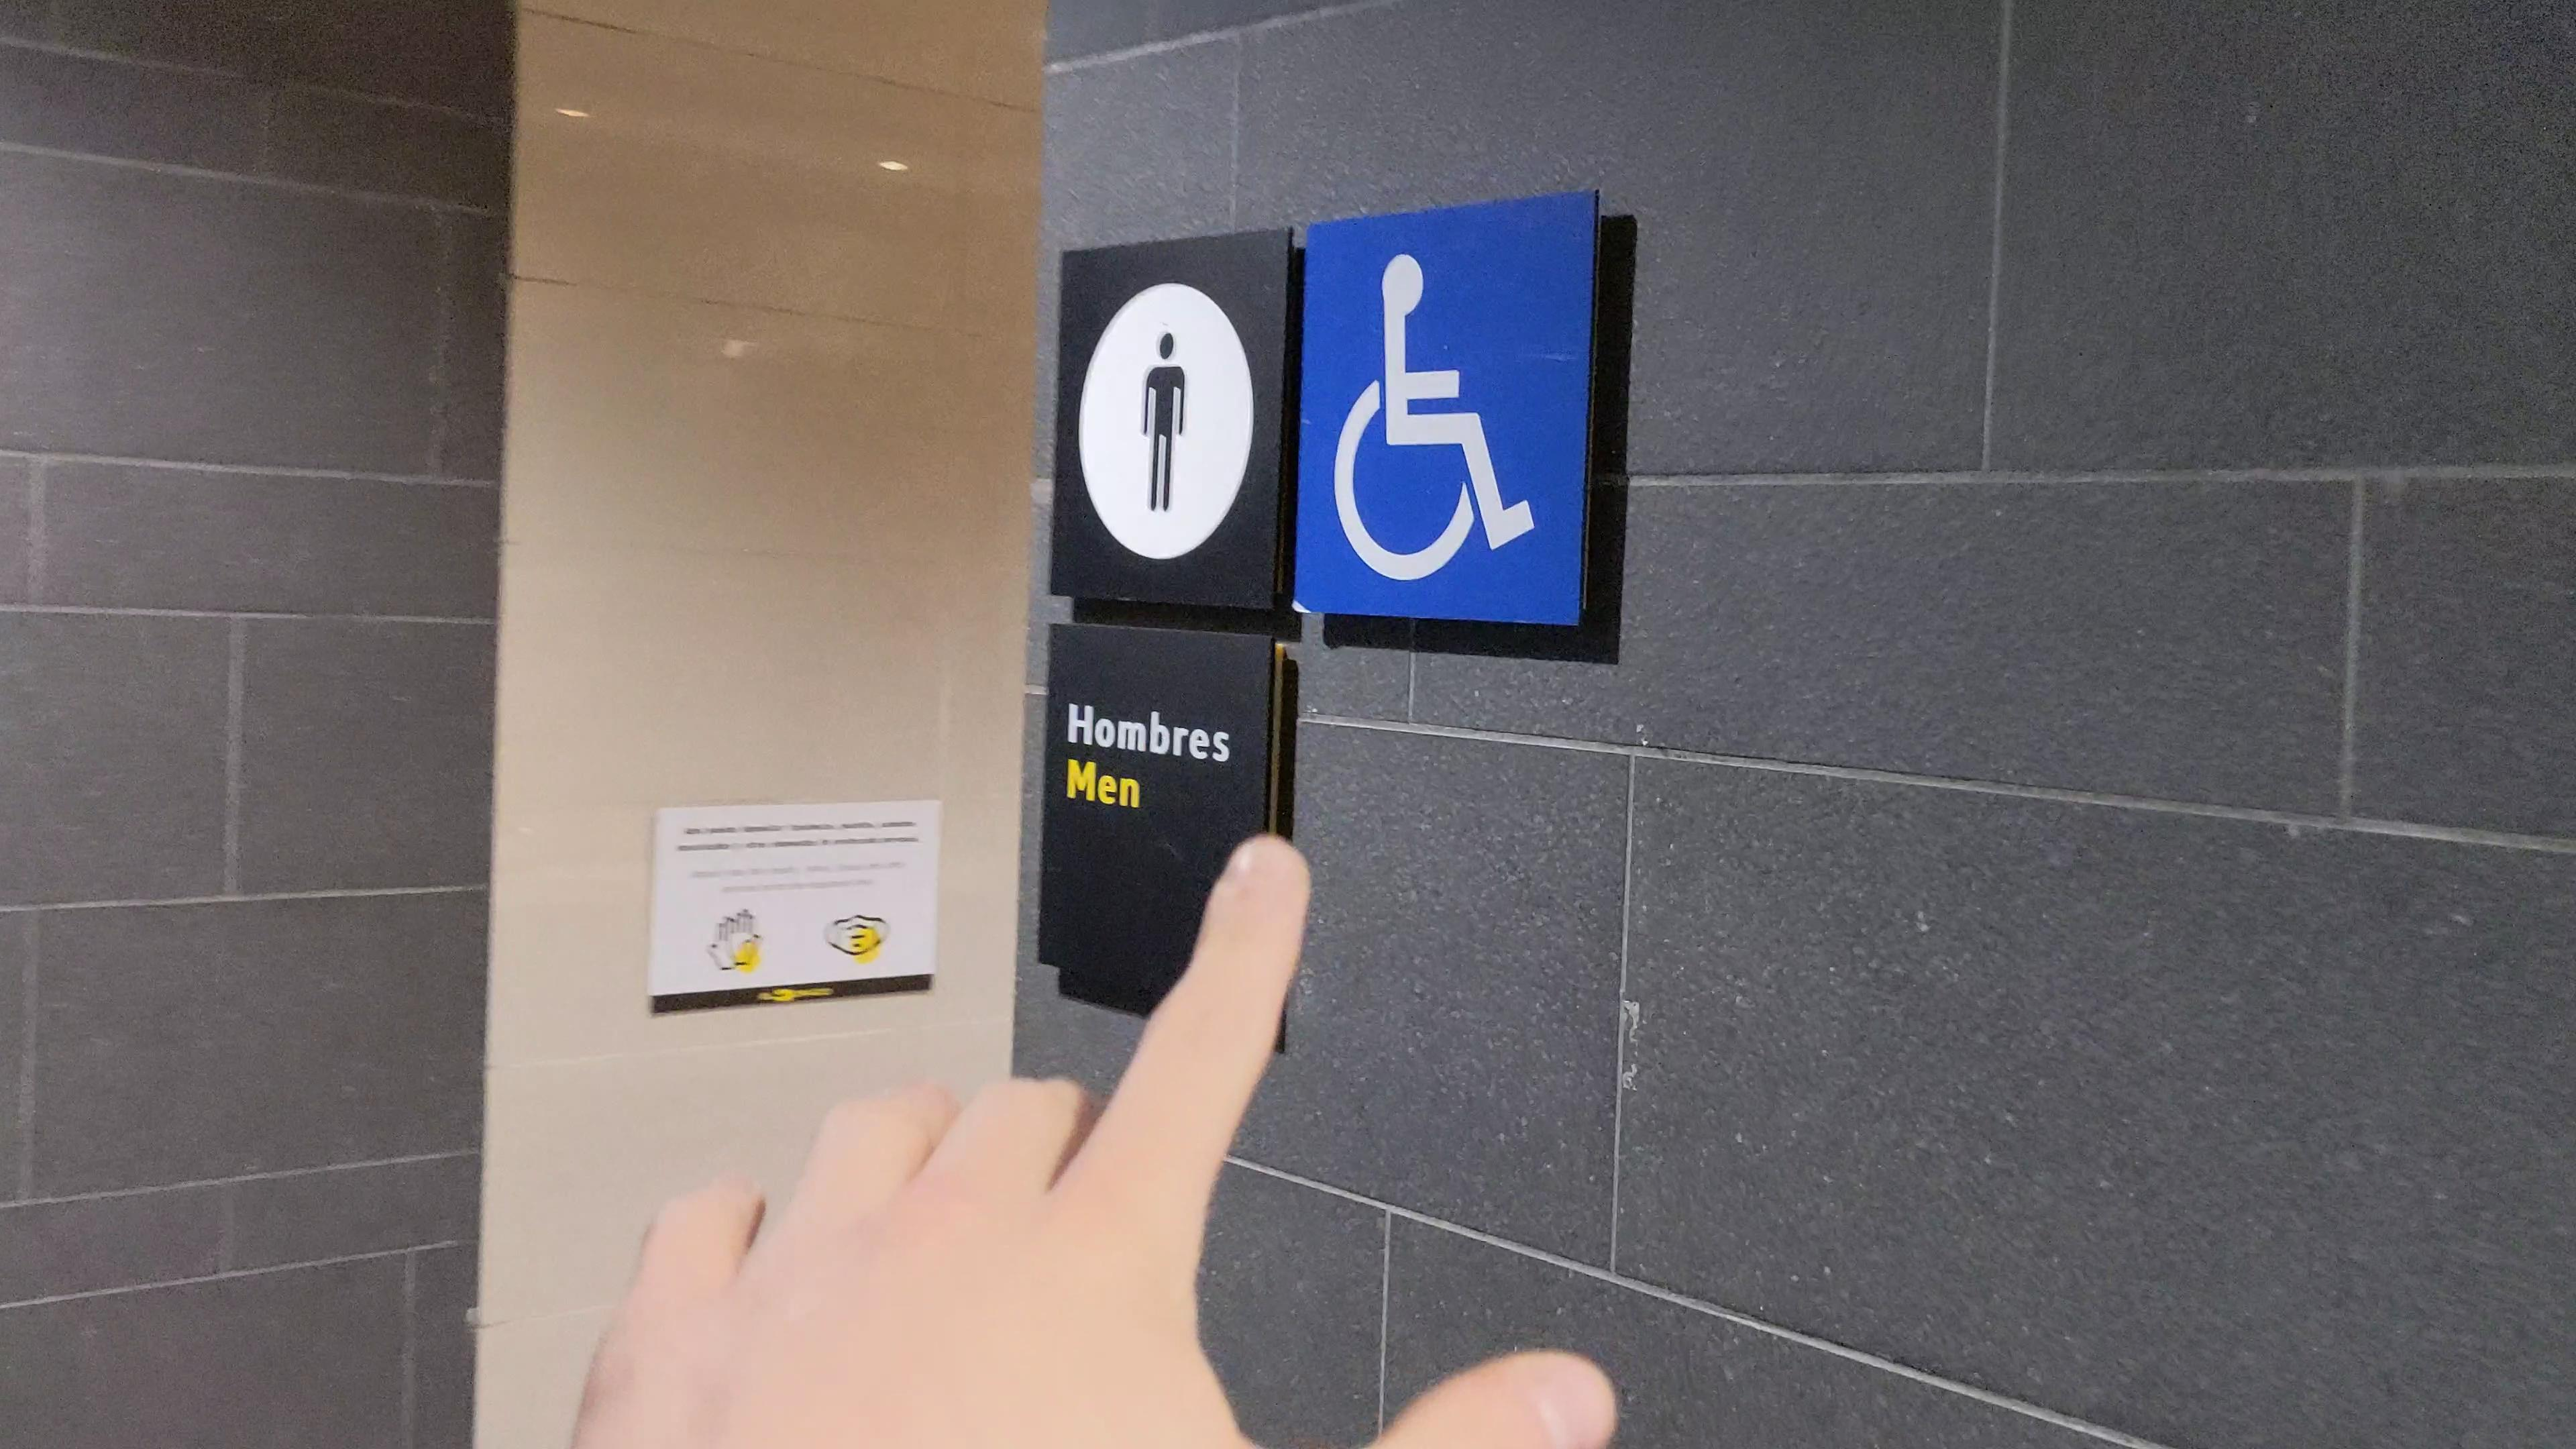handicapped symbol: (1330, 251, 1537, 586)
